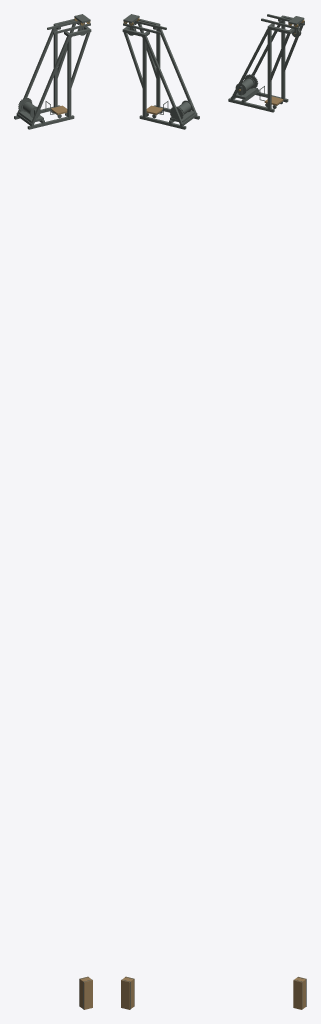
File: second-floor-receiver.glb
3 views of the same model, side by side, from view 1: azimuth 30°, elevation 25°; view 2: azimuth 150°, elevation 25°; view 3: azimuth 330°, elevation 25° (orthographic).
Visible parts, largest first — view 1: crate-body.004, mast--0.006, back-stay--0.006, mast-0.006, back-stay-0.006, head-brace--0.006; view 2: crate-body.004, mast-0.006, back-stay-0.006, back-stay--0.006, mast--0.006, head-brace-0.006; view 3: crate-body.004, mast--0.006, mast-0.006, back-stay--0.006.
Boxes of the visible parts, bbox=[...] form: crate-body.004: bbox=[79, 976, 92, 1009]; mast--0.006: bbox=[67, 36, 71, 117]; back-stay--0.006: bbox=[31, 35, 68, 123]; mast-0.006: bbox=[53, 28, 57, 107]; back-stay-0.006: bbox=[17, 28, 54, 113]; head-brace--0.006: bbox=[71, 32, 90, 87]; crate-body.004: bbox=[121, 976, 134, 1009]; mast-0.006: bbox=[142, 36, 146, 117]; back-stay-0.006: bbox=[145, 35, 182, 123]; back-stay--0.006: bbox=[159, 28, 196, 113]; mast--0.006: bbox=[156, 28, 160, 107]; head-brace-0.006: bbox=[123, 32, 142, 87]; crate-body.004: bbox=[293, 976, 306, 1009]; mast--0.006: bbox=[267, 28, 271, 109]; mast-0.006: bbox=[281, 20, 285, 99]; back-stay--0.006: bbox=[232, 28, 267, 98].
Size of the model in its own units: 4.65 by 63.75 by 1.77.
